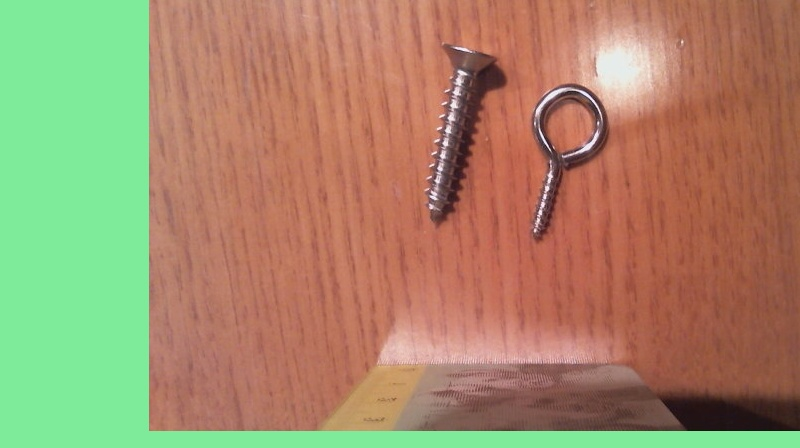O001: (519, 80, 613, 244)
S001: (419, 38, 500, 228)
